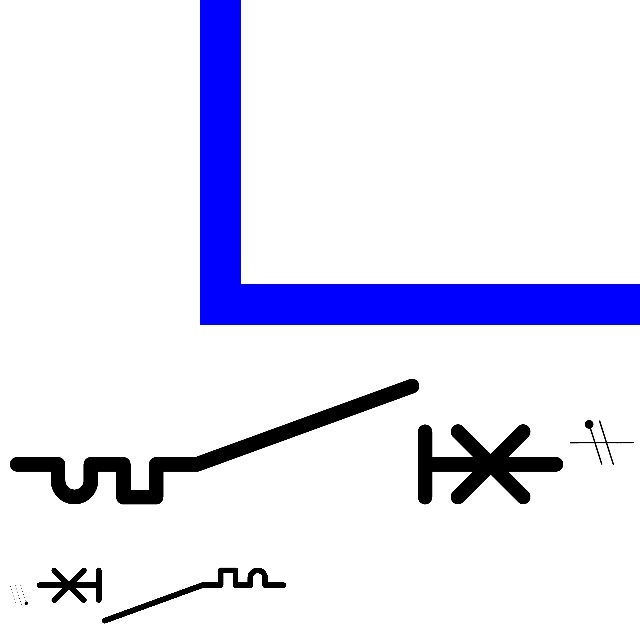interruptor_termomagnetico: (3, 372, 570, 511), (33, 564, 290, 626)
